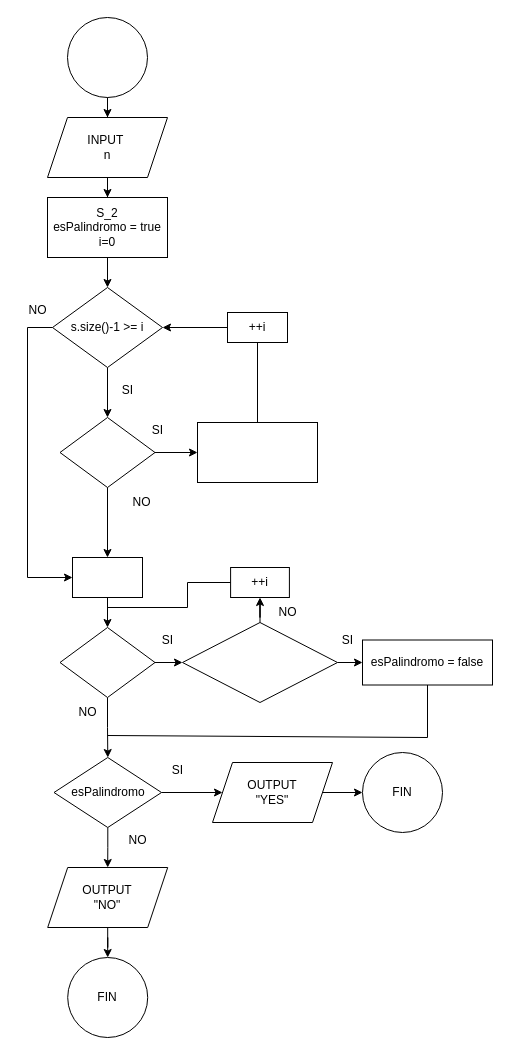
This 510x1055 diagram has some shape labels left out. The shapes that lost their labels are listed below. From the top down, each one's centre as x and y in pixels, then its label:
At (107,57): "INICIO".
At (107,452): "s[i] !=' '".
At (257,452): "s_2 = s_2 + s[i]".
At (107,577): "i = 0".
At (107,662): "i < n/2".
At (260,662): "s_2[i] != s_2[n - 1 - i]".
